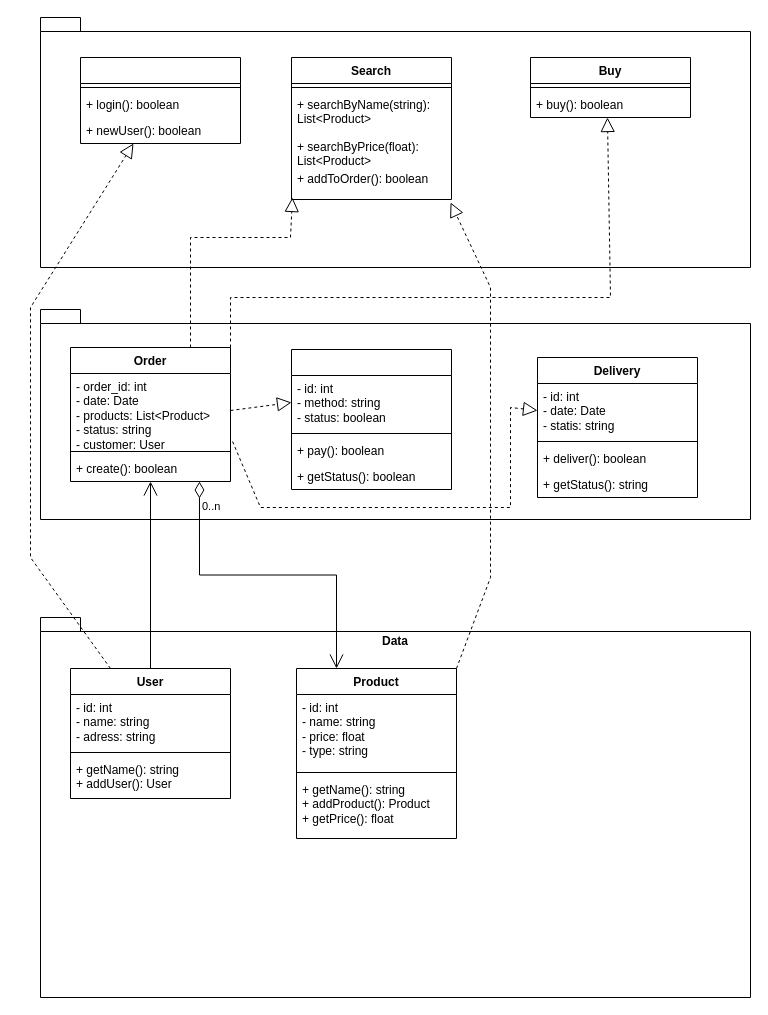
Some shapes in this 768 by 1015 pixel diagram are drawn without their labels. Here are the shapes that lost their labels. From the top down, the box of each, then its label:
(80, 56, 240, 144): Authorization
(40, 16, 750, 268): View
(290, 348, 452, 490): Payment
(40, 308, 750, 520): Buisness logic
